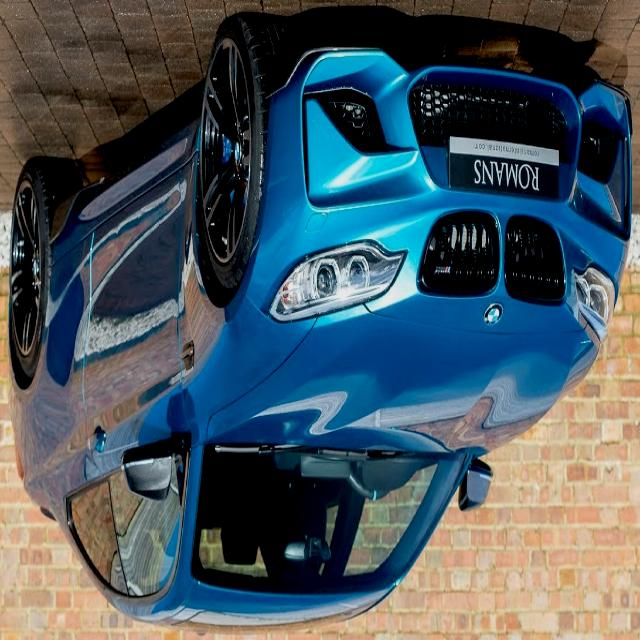blue: (0, 0, 627, 629)
